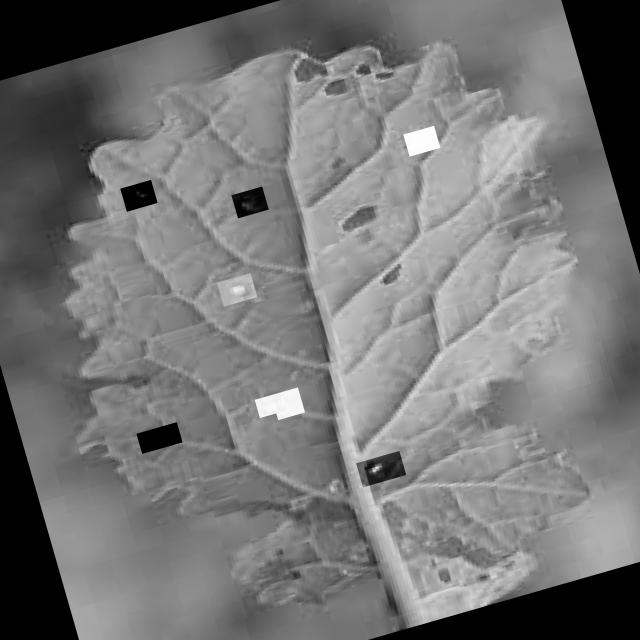aphid: (356, 450, 406, 486), (136, 420, 182, 452), (216, 272, 257, 306), (120, 178, 157, 210), (231, 185, 268, 217), (402, 124, 440, 155), (270, 386, 304, 418), (253, 391, 286, 416)
